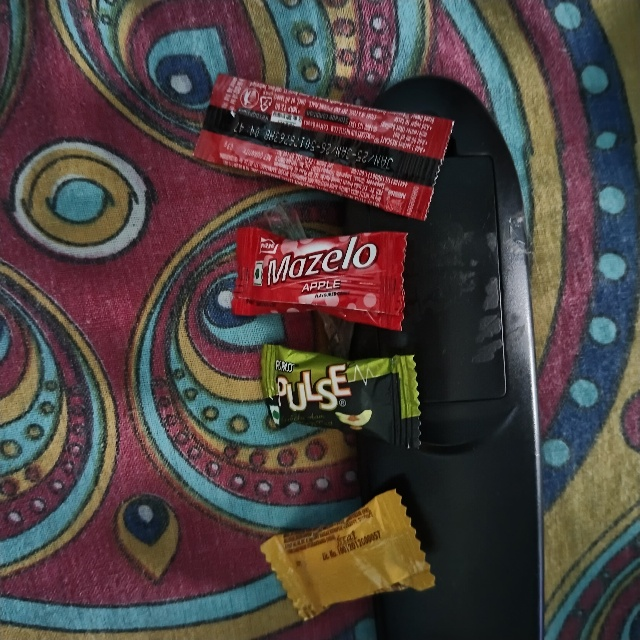Alpenlibe Creamfills: (254, 542, 413, 640)
Mazelo: (234, 225, 409, 329)
Nescafe Coffee: (223, 67, 461, 164)
Pulse: (264, 345, 422, 435)
